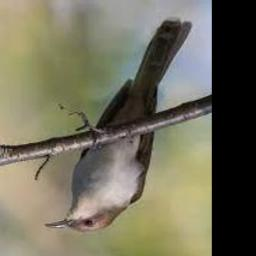Cuckoo: (45, 20, 190, 232)
